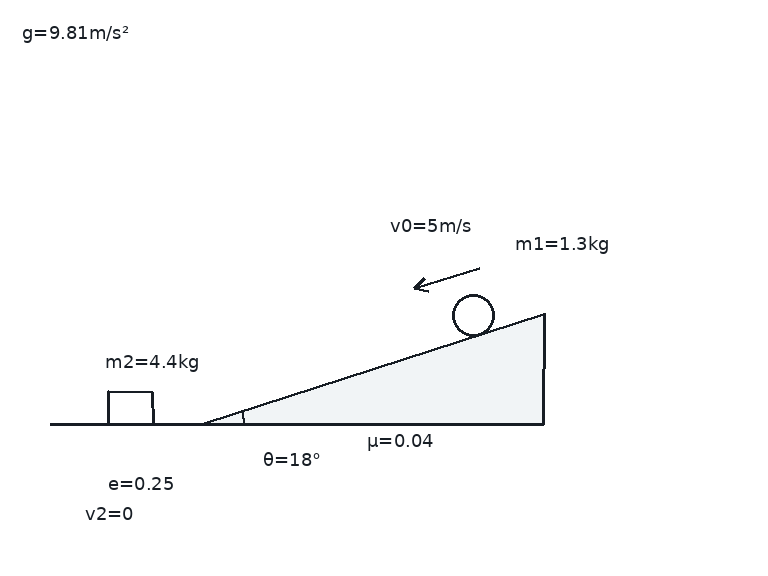ball: (450, 292, 496, 338)
block: (106, 390, 154, 426)
ramp: (202, 312, 546, 426)
